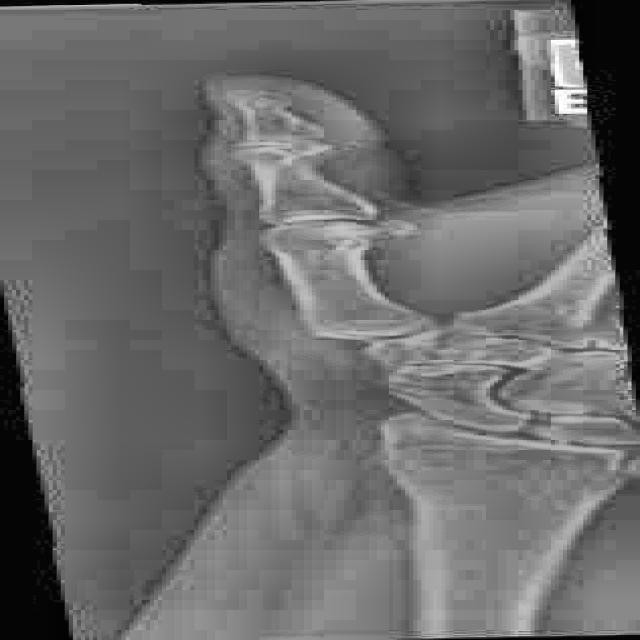fingers positive: (229, 111, 358, 163)
